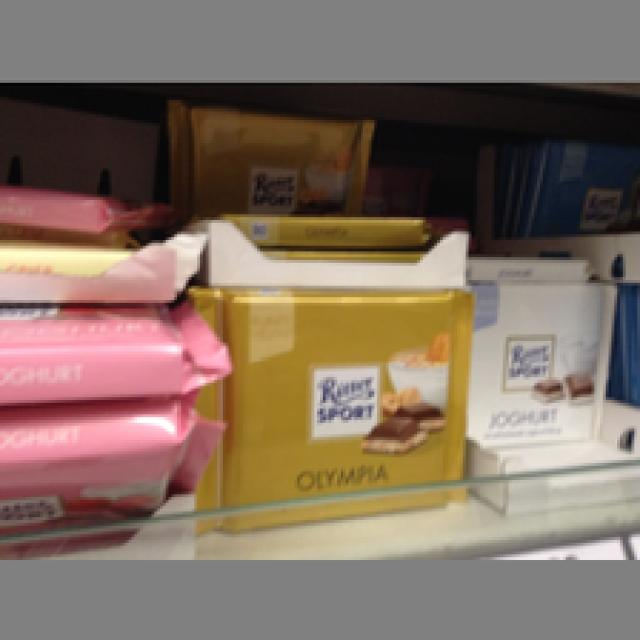groceries: (180, 274, 466, 529), (460, 274, 611, 443), (166, 94, 374, 209)
